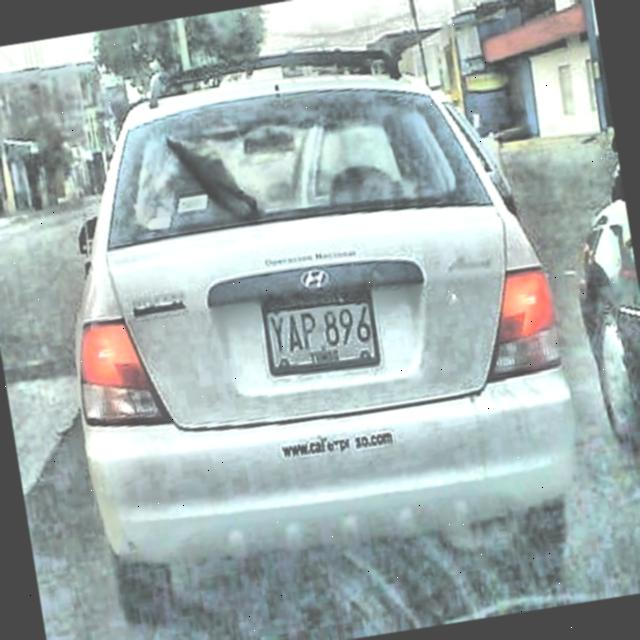plate: (266, 299, 378, 369)
